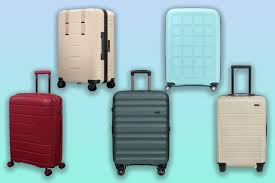suitcase: (5, 70, 65, 178), (110, 70, 170, 177), (52, 6, 115, 91), (162, 7, 225, 90), (214, 64, 262, 167)
